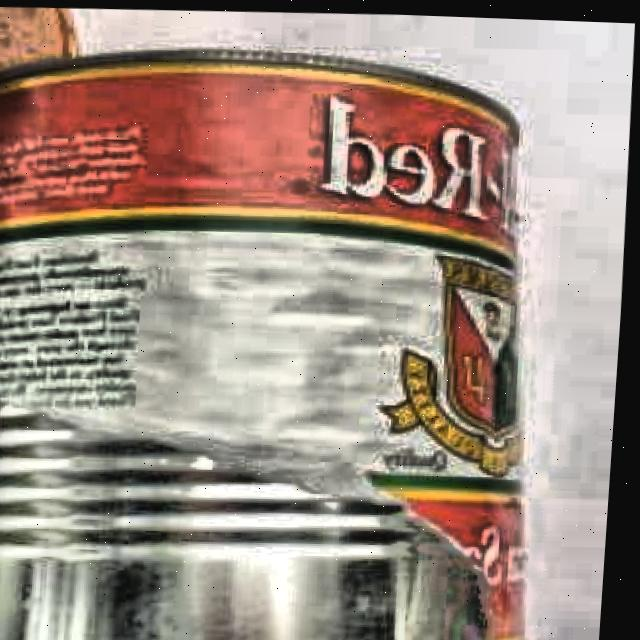metal: (0, 6, 547, 640)
